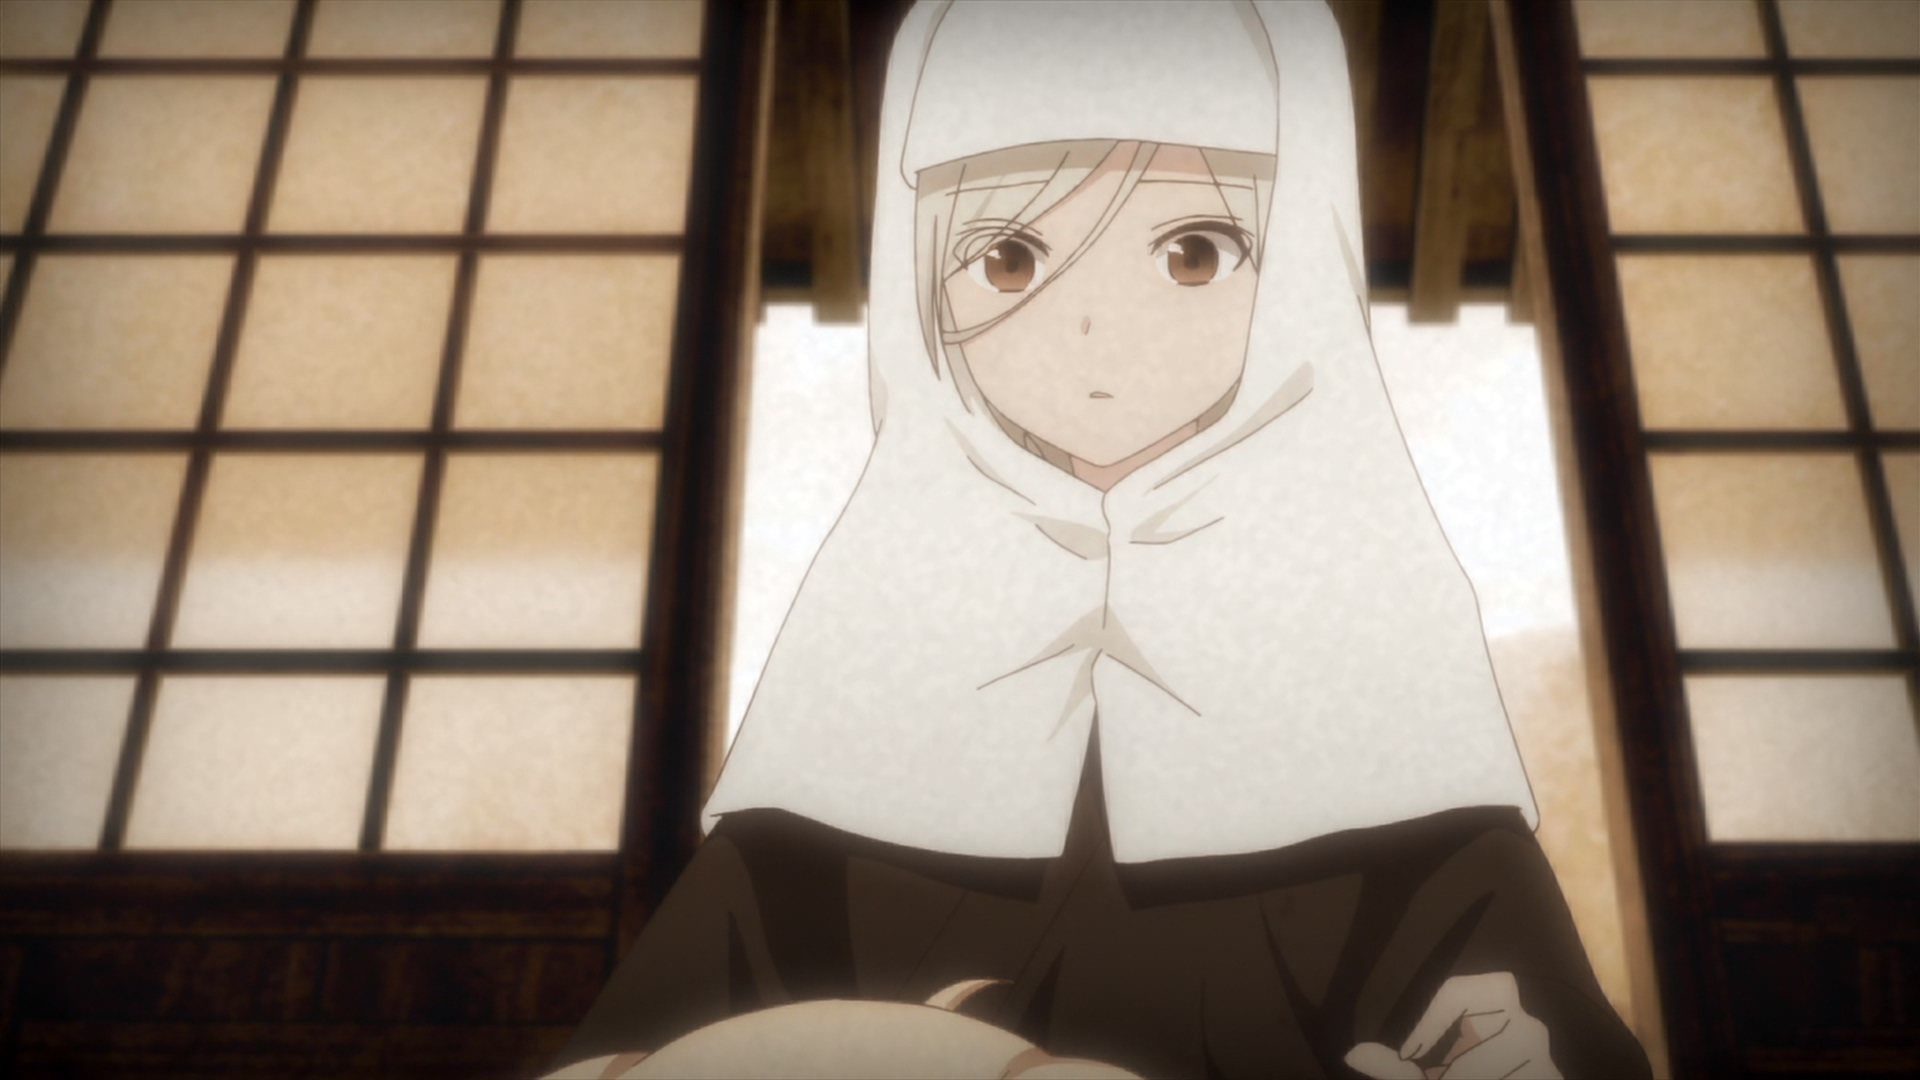八百比丘尼: (545, 1, 1655, 1080)
